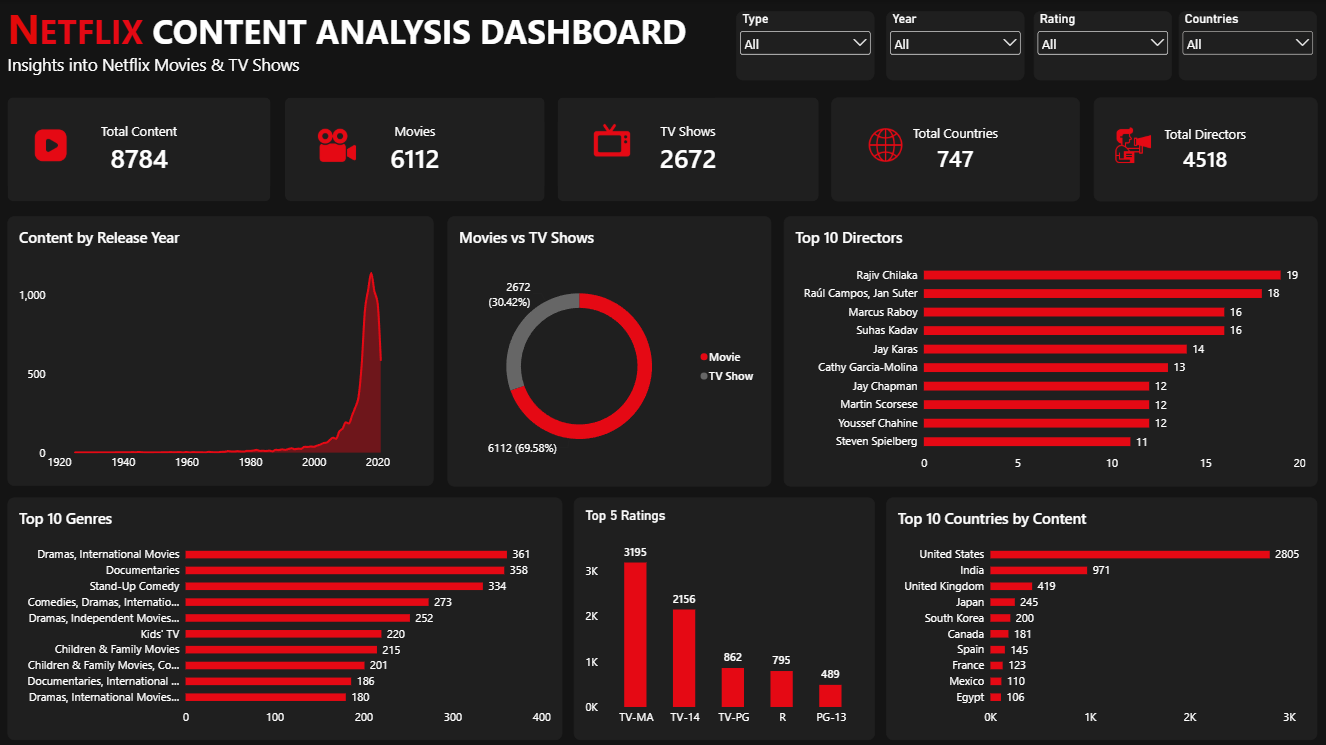

What the dashboard file says about the page in this screenshot:
{"tool":"powerbi","page":{"name":"Page 1","canvas":[1920,1080],"ordinal":0},"visuals":[{"type":"textbox","box":[10.9,0,1022.5,133.9],"z":0},{"type":"cardVisual","fields":{"Data":["CountNonNull(netflix_db netflix__data.show_id)"]},"box":[10.9,141.2,381.8,150.2],"z":1000},{"type":"lineChart","title":"Content by Release Year","fields":{"Category":["netflix_db netflix__data.release_year"],"Y":["CountNonNull(netflix_db netflix__data.show_id)"]},"box":[10.9,313.1,617.1,390],"z":2000},{"type":"clusteredBarChart","title":"Top 10 Genres","fields":{"Category":["netflix_db netflix__data.listed_in"],"Y":["CountNonNull(netflix_db netflix__data.show_id)"]},"box":[10.9,720.2,803.5,351.1],"z":3000},{"type":"columnChart","title":"Top 5 Ratings","fields":{"Category":["netflix_db netflix__data.rating"],"Y":["CountNonNull(netflix_db netflix__data.show_id)"]},"box":[830.6,720.2,436.1,351.1],"z":4000},{"type":"clusteredBarChart","title":"Top 10 Directors","fields":{"Category":["netflix_db netflix__data.director"],"Y":["CountNonNull(netflix_db netflix__data.show_id)"]},"box":[1134.7,313.1,772.7,390.9],"z":5000},{"type":"donutChart","title":"Movies vs TV Shows","fields":{"Category":["netflix_db netflix__data.type"],"Y":["CountNonNull(netflix_db netflix__data.show_id)"]},"box":[647.9,313.1,468.7,390.9],"z":6000},{"type":"cardVisual","fields":{"Data":["CountNonNull(netflix_db netflix__data.show_id)"]},"box":[412.2,141.2,376.4,150.2],"z":7000},{"type":"cardVisual","fields":{"Data":["CountNonNull(netflix_db netflix__data.show_id)"]},"box":[807.1,141.2,378.2,150.2],"z":8000},{"type":"cardVisual","fields":{"Data":["Count(netflix_db netflix__data.country)"]},"box":[1203.9,141.2,360.1,150.2],"z":9000},{"type":"cardVisual","fields":{"Data":["Count(netflix_db netflix__data.director)"]},"box":[1583.5,141.2,323.9,150.2],"z":10000},{"type":"clusteredBarChart","title":"Top 10 Countries by Content","fields":{"Category":["netflix_db netflix__data.country"],"Y":["CountNonNull(netflix_db netflix__data.show_id)"]},"box":[1283,720.2,624.3,351.1],"z":11000},{"type":"slicer","fields":{"Values":["netflix_db netflix__data.type"]},"box":[1065.9,16.3,200,100],"z":12000},{"type":"slicer","fields":{"Values":["netflix_db netflix__data.country"]},"box":[1706.5,16.3,200,100],"z":13000},{"type":"slicer","fields":{"Values":["netflix_db netflix__data.release_year"]},"box":[1283,16.3,200,100],"z":14000},{"type":"slicer","fields":{"Values":["netflix_db netflix__data.rating"]},"box":[1496.6,16.3,200,100],"z":15000},{"type":"image","box":[457.8,182.8,60,55],"z":16000},{"type":"image","box":[856,175.5,60,55],"z":17000},{"type":"image","box":[1246.9,175.5,70.6,68.8],"z":18000},{"type":"image","box":[1610.6,182.8,60,55],"z":19000},{"type":"image","box":[43.4,182.8,60,55],"z":20000}]}

Visuals, with their boxes in screenshot pixels (x1, y1, x2, y2), scaled from the page's 1920x1080 canvas onto the 1326x745 screenshot:
textbox: rect(8, 0, 714, 92)
cardVisual - CountNonNull(netflix_db netflix__data.show_id): rect(8, 97, 271, 201)
"Content by Release Year" lineChart: rect(8, 216, 434, 485)
"Top 10 Genres" clusteredBarChart: rect(8, 497, 562, 739)
"Top 5 Ratings" columnChart: rect(574, 497, 875, 739)
"Top 10 Directors" clusteredBarChart: rect(784, 216, 1317, 486)
"Movies vs TV Shows" donutChart: rect(447, 216, 771, 486)
cardVisual - CountNonNull(netflix_db netflix__data.show_id): rect(285, 97, 545, 201)
cardVisual - CountNonNull(netflix_db netflix__data.show_id): rect(557, 97, 819, 201)
cardVisual - Count(netflix_db netflix__data.country): rect(831, 97, 1080, 201)
cardVisual - Count(netflix_db netflix__data.director): rect(1094, 97, 1317, 201)
"Top 10 Countries by Content" clusteredBarChart: rect(886, 497, 1317, 739)
slicer - netflix_db netflix__data.type: rect(736, 11, 874, 80)
slicer - netflix_db netflix__data.country: rect(1179, 11, 1317, 80)
slicer - netflix_db netflix__data.release_year: rect(886, 11, 1024, 80)
slicer - netflix_db netflix__data.rating: rect(1034, 11, 1172, 80)
image: rect(316, 126, 358, 164)
image: rect(591, 121, 633, 159)
image: rect(861, 121, 910, 169)
image: rect(1112, 126, 1154, 164)
image: rect(30, 126, 71, 164)
